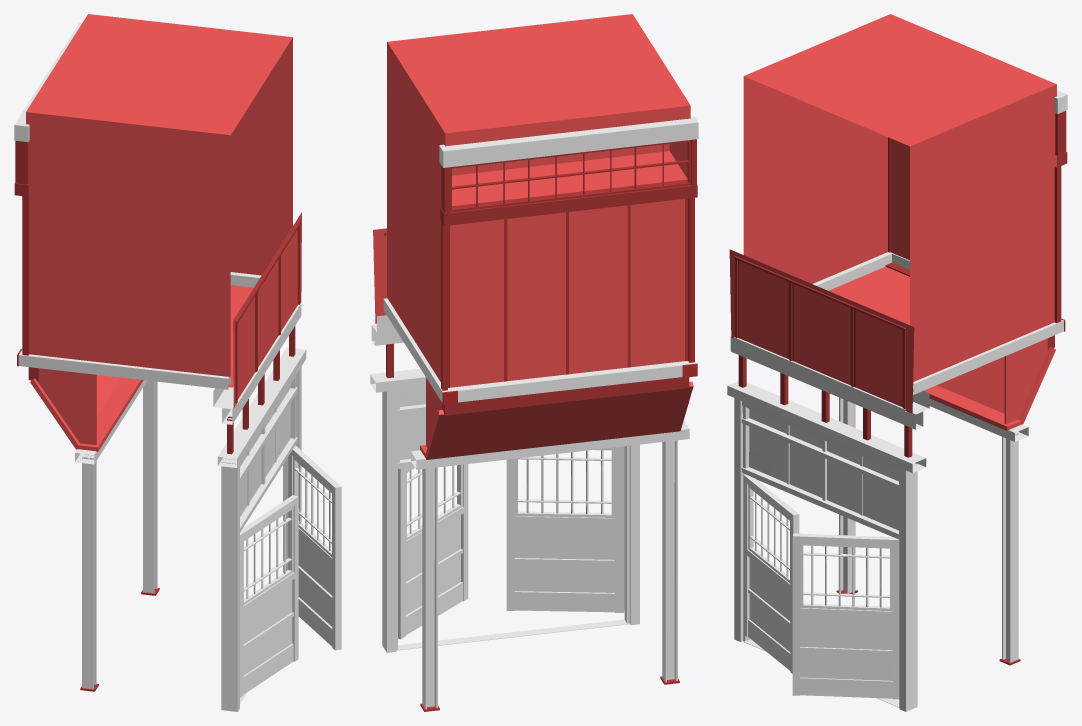
The model's file is SM_H_Building_Tide_Jail_Monitor_01e_ATLAS.fbx.
3 renders of one model, left to right at view 1: azimuth 30°, elevation 25°; view 2: azimuth 150°, elevation 25°; view 3: azimuth 270°, elevation 25°, orthographic. The views are drawn at different scales.
Parts seen in each view (by area): view 1: SM_H_Building_Tide_Jail_Monitor_01e_ATLAS; view 2: SM_H_Building_Tide_Jail_Monitor_01e_ATLAS; view 3: SM_H_Building_Tide_Jail_Monitor_01e_ATLAS.
Boxes of the visible parts, x1=… form: SM_H_Building_Tide_Jail_Monitor_01e_ATLAS: x1=14, y1=14, x2=341, y2=711; SM_H_Building_Tide_Jail_Monitor_01e_ATLAS: x1=370, y1=14, x2=698, y2=711; SM_H_Building_Tide_Jail_Monitor_01e_ATLAS: x1=727, y1=14, x2=1067, y2=711.
Size of the model in its own units: 874 by 874 by 1593.
